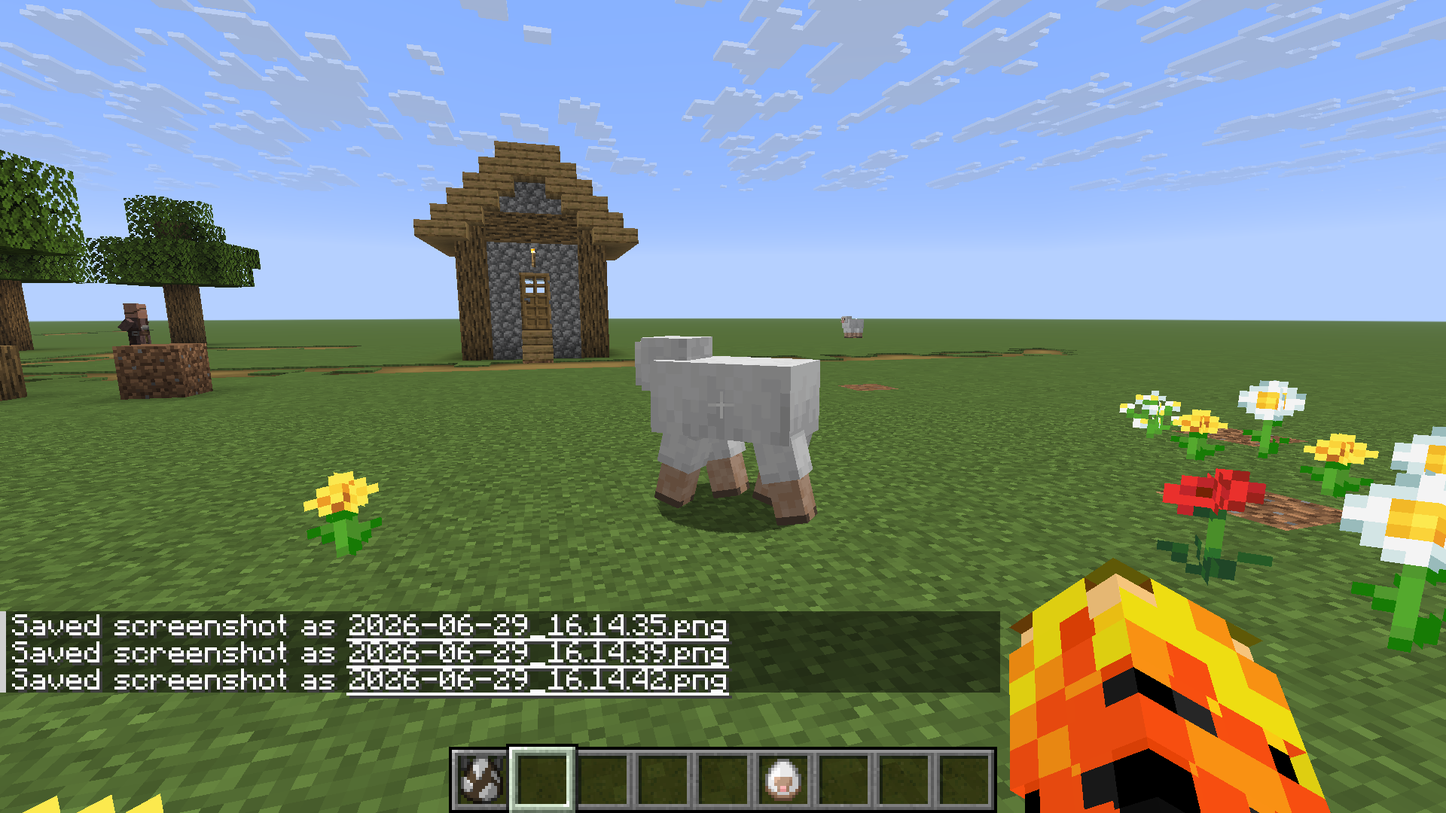Sheep: (621, 330, 841, 540), (837, 313, 868, 336)
Tree: (87, 190, 281, 348)
dirt: (114, 342, 213, 402)
villager: (121, 297, 154, 343)
